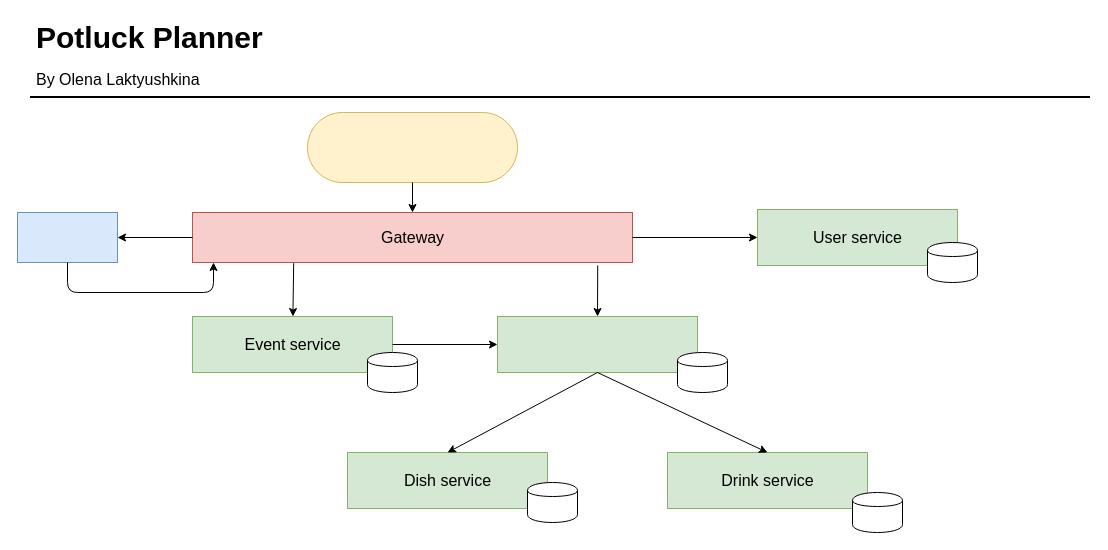
This 1108x550 diagram has some shape labels left out. The centre of each missing label's shape, as x and y in pixels:
"Guest service" goes at (x=597, y=344).
"Potluck Planner SPA" goes at (x=412, y=147).
"STS" goes at (x=67, y=237).
